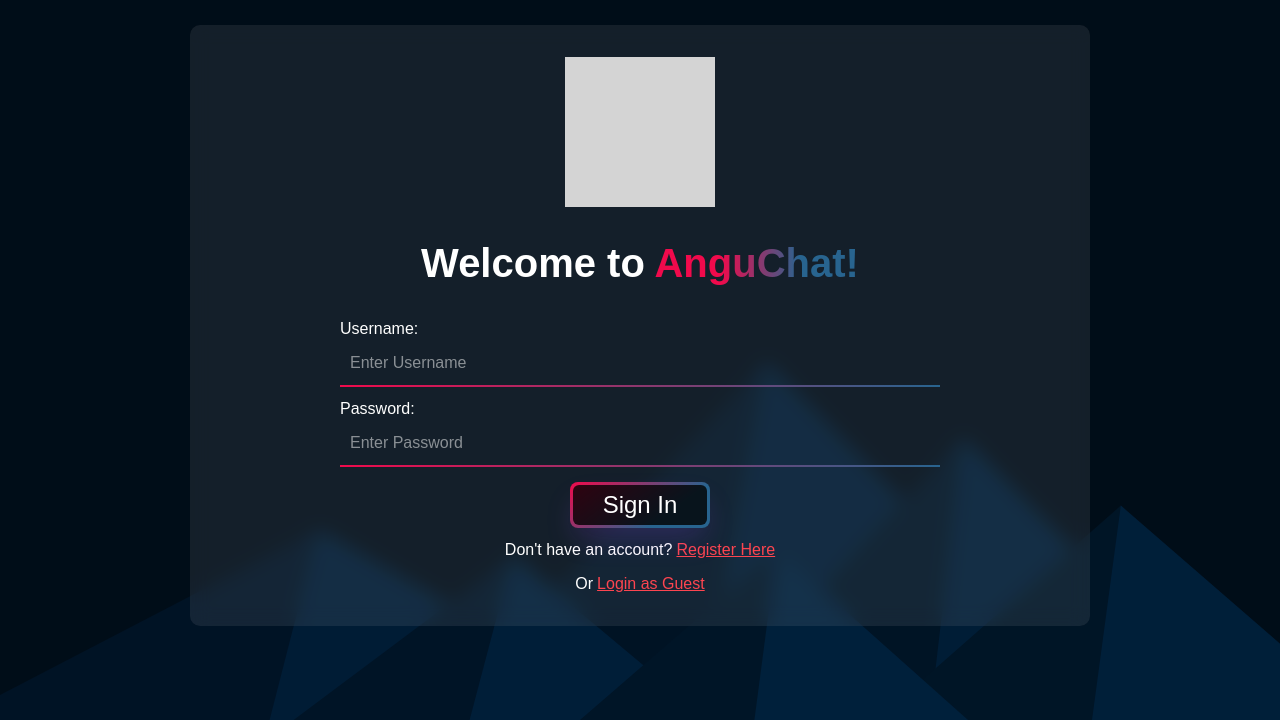
Login Page Tests › shows an error message for wrong credentials
Type "wrongUser" into the field with id "username" at (640, 364), box [340, 341, 940, 387]
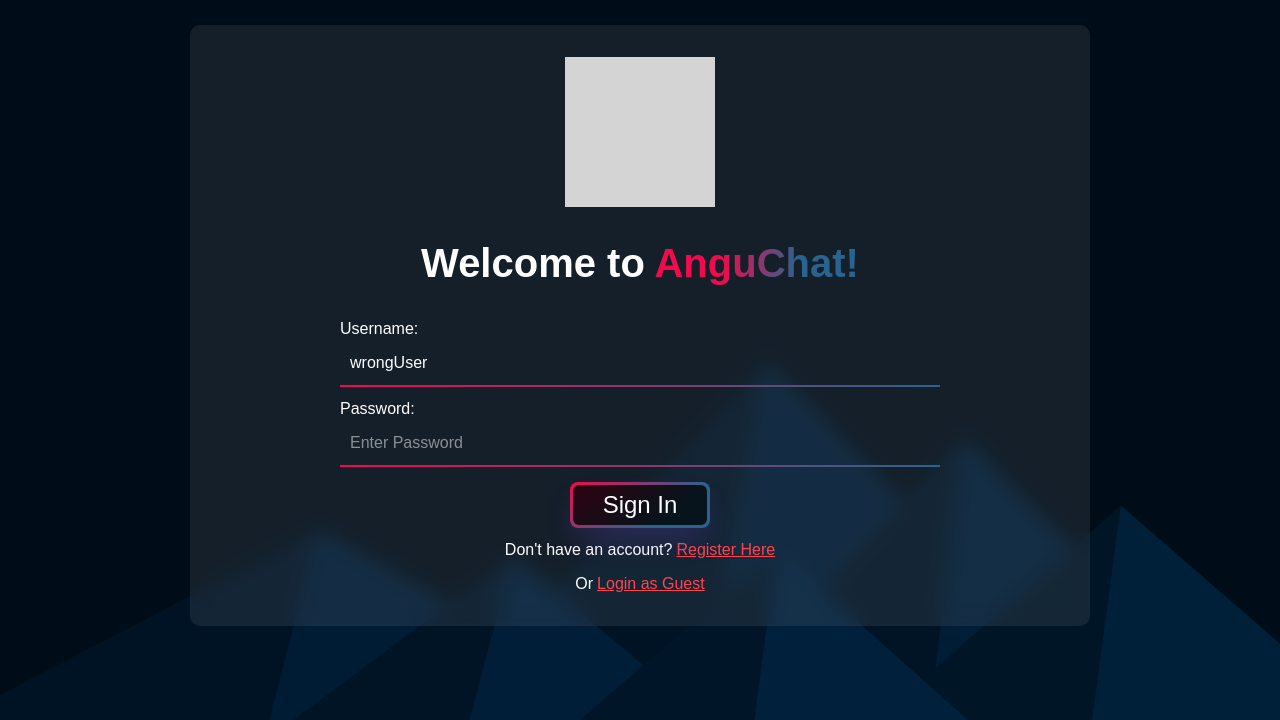
Type "wrongPass" into the password field labelled "Password:" at (640, 444), box [340, 421, 940, 467]
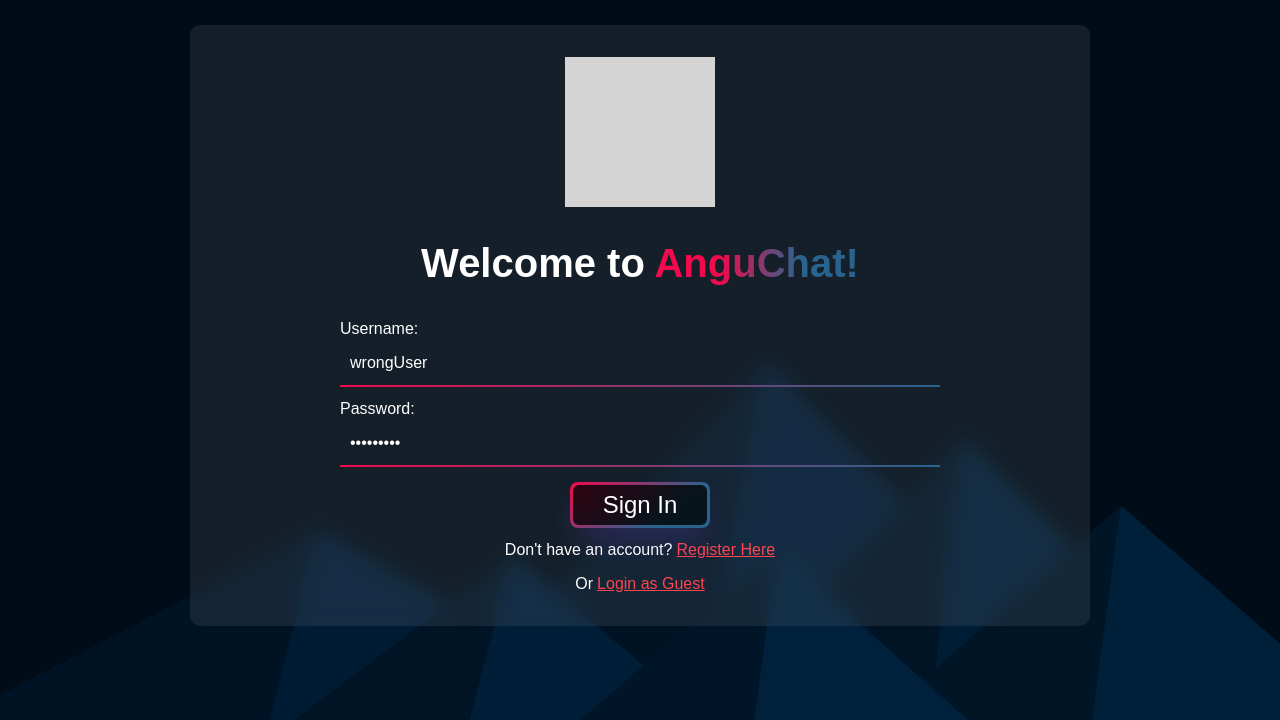
Submit the form with class "login-form", box [340, 307, 940, 596]
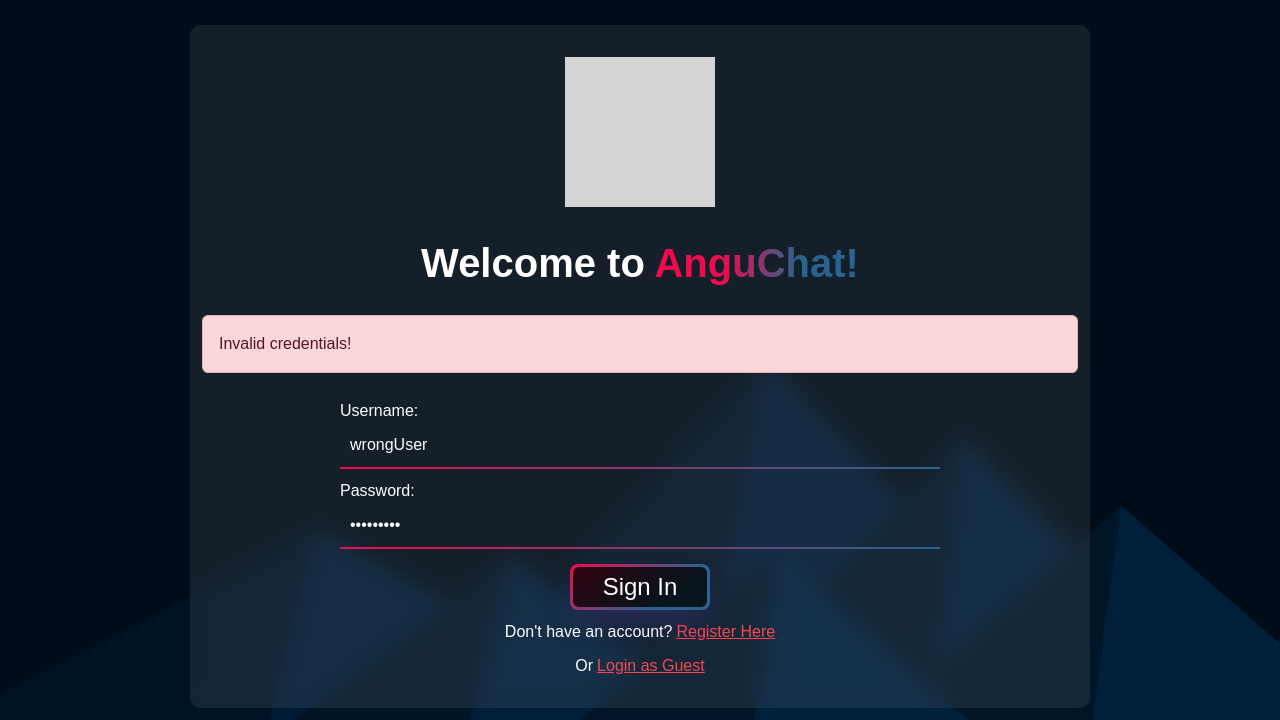
Expected: the text with class "alert-danger" reads "Invalid credentials!", [219, 335, 352, 352]
